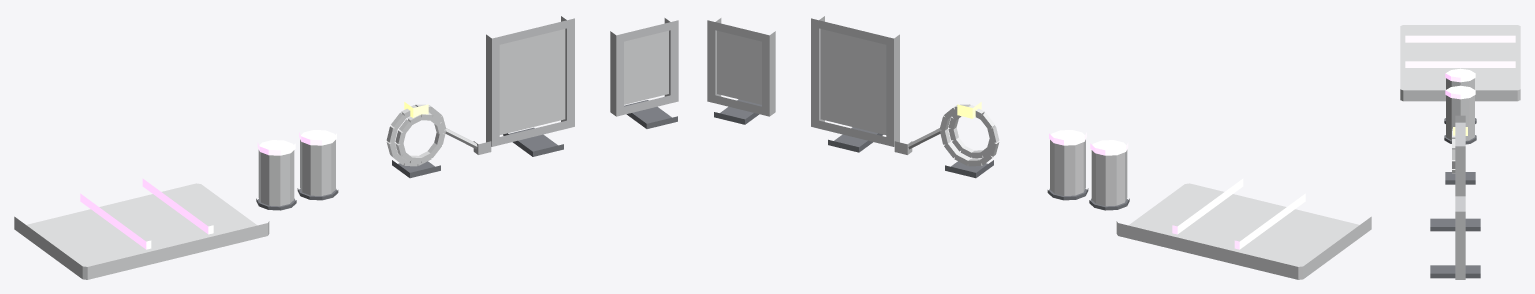
Rendered from iter_01.glb.
The picture shows the model from 3 angles, left to right: view 1: azimuth 30°, elevation 25°; view 2: azimuth 150°, elevation 25°; view 3: azimuth 270°, elevation 25°; orthographic projection. The views are drawn at different scales.
Parts seen in each view (by area): view 1: Meal_Tray, Photo_Frame_Decal_Face, Photo_Frame, Photo_Frame_Small_Decal_Face, Photo_Frame_Small, Cup_0, Cable_Coil, Cup_1, Tray_Dividers, Photo_Frame_Stand, Photo_Frame_Small_Stand, Cup_0_Lid (+2 smaller); view 2: Meal_Tray, Photo_Frame_Decal_Face, Photo_Frame, Photo_Frame_Small_Decal_Face, Photo_Frame_Small, Cup_0, Cable_Coil, Cup_1, Tray_Dividers, Photo_Frame_Stand, Photo_Frame_Small_Stand, Cup_0_Lid (+2 smaller); view 3: Meal_Tray, Tray_Dividers, Photo_Frame_Small, Cup_1, Photo_Frame, Photo_Frame_Small_Stand, Photo_Frame_Stand, Cup_0_Lid, Cup_1_Lid, Coil_Hook_Base, Cup_0, Cable_Coil (+1 smaller).
Boxes of the visible parts, box(x1,y1,x2,y2) form: Meal_Tray: box(14, 183, 269, 279); Photo_Frame_Decal_Face: box(499, 29, 565, 134); Photo_Frame: box(486, 16, 574, 146); Photo_Frame_Small_Decal_Face: box(624, 30, 668, 104); Photo_Frame_Small: box(610, 18, 678, 116); Cup_0: box(258, 150, 294, 206); Cable_Coil: box(386, 104, 446, 166); Cup_1: box(300, 139, 335, 195); Tray_Dividers: box(80, 178, 213, 249); Photo_Frame_Stand: box(503, 127, 563, 156); Photo_Frame_Small_Stand: box(624, 100, 677, 128); Cup_0_Lid: box(257, 140, 295, 155); Meal_Tray: box(1116, 183, 1371, 279); Photo_Frame_Decal_Face: box(820, 29, 886, 134); Photo_Frame: box(811, 16, 899, 146); Photo_Frame_Small_Decal_Face: box(717, 30, 761, 104); Photo_Frame_Small: box(707, 18, 775, 116); Cup_0: box(1091, 150, 1127, 206); Cable_Coil: box(939, 104, 999, 166); Cup_1: box(1050, 139, 1085, 195); Tray_Dividers: box(1172, 178, 1305, 249); Photo_Frame_Stand: box(828, 127, 883, 152); Photo_Frame_Small_Stand: box(714, 99, 761, 124); Cup_0_Lid: box(1090, 140, 1128, 155); Meal_Tray: box(1400, 25, 1520, 101); Tray_Dividers: box(1405, 35, 1515, 67); Photo_Frame_Small: box(1455, 189, 1465, 279); Cup_1: box(1446, 95, 1474, 140); Photo_Frame: box(1455, 115, 1465, 189); Photo_Frame_Small_Stand: box(1430, 265, 1480, 278); Photo_Frame_Stand: box(1430, 218, 1480, 231); Cup_0_Lid: box(1445, 68, 1475, 82); Cup_1_Lid: box(1445, 85, 1475, 99); Coil_Hook_Base: box(1445, 172, 1475, 184); Cup_0: box(1446, 78, 1474, 89); Cable_Coil: box(1452, 128, 1455, 173).
Size of the model in its own units: 1.21 by 0.21 by 0.24.
